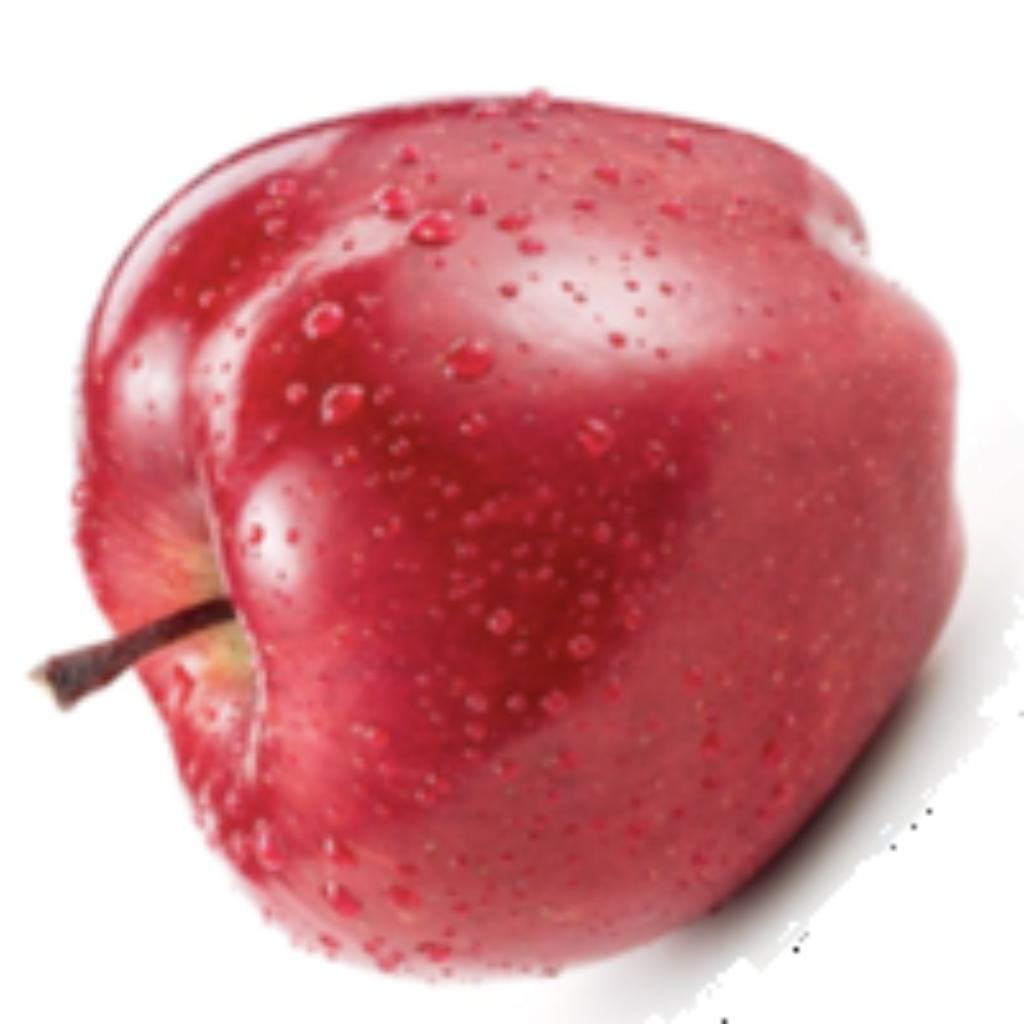apple: (20, 77, 1019, 1019)
